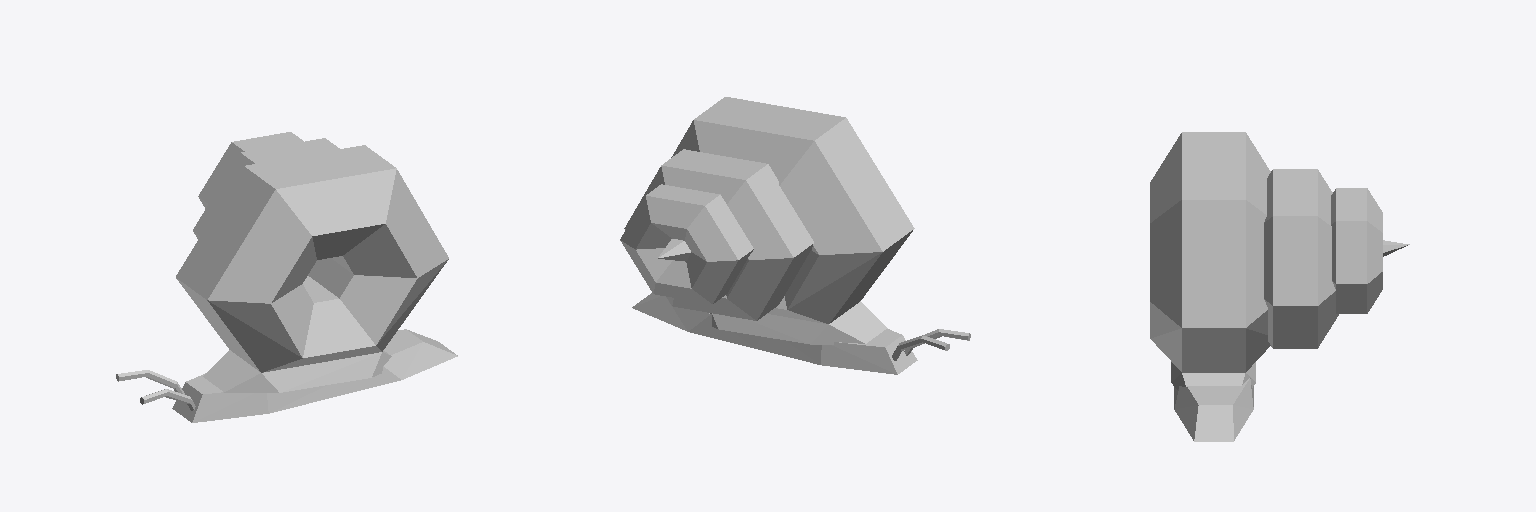
File: incasnail.obj
3 renders of one model, left to right at view 1: azimuth 30°, elevation 25°; view 2: azimuth 150°, elevation 25°; view 3: azimuth 270°, elevation 25°, orthographic.
Parts seen in each view (by area): view 1: SketchUp; view 2: SketchUp; view 3: SketchUp.
Boxes of the visible parts, box(x1,y1,x2,y2) form: SketchUp: box(116, 132, 457, 422); SketchUp: box(620, 97, 970, 374); SketchUp: box(1150, 132, 1409, 441).
Bounding box in the file's own units: 8.68 × 5.7 × 6.11.